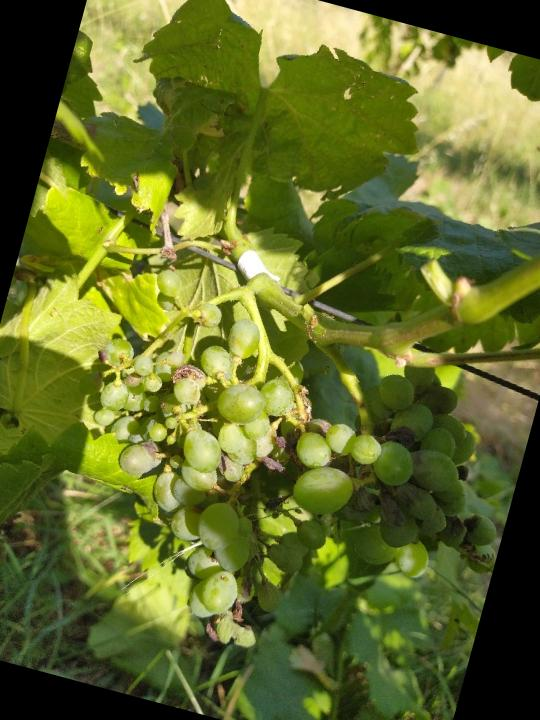grape: (29, 256, 540, 712)
